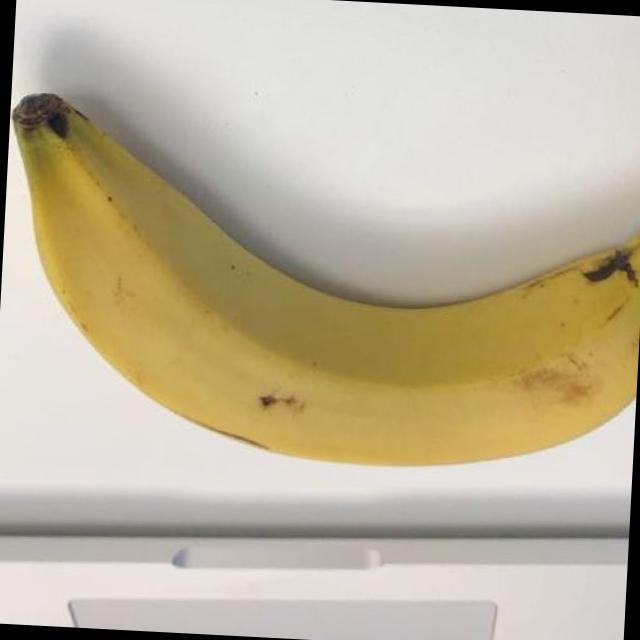Banana: (0, 70, 640, 496)
